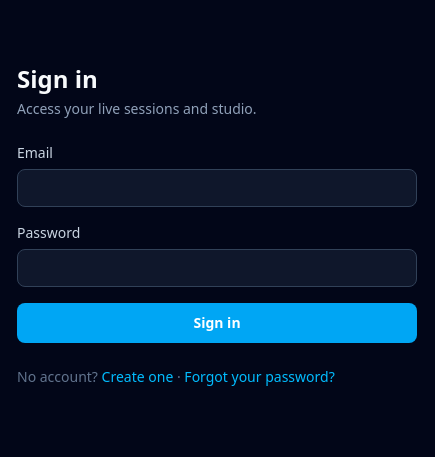
Sign-in with single sign-on › offers single sign-on once the address is known to use it
Type "person@northwind.example" into the field labelled "Email".
click(217, 188); type("person@northwind.example")  # box [17,169,417,207]
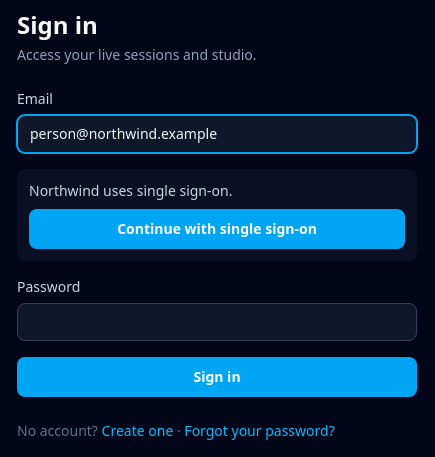
Result: the text "Northwind uses single sign-on." is shown at [29,181,232,200]
Result: the button "Continue with single sign-on" is enabled at [29,209,405,249]
